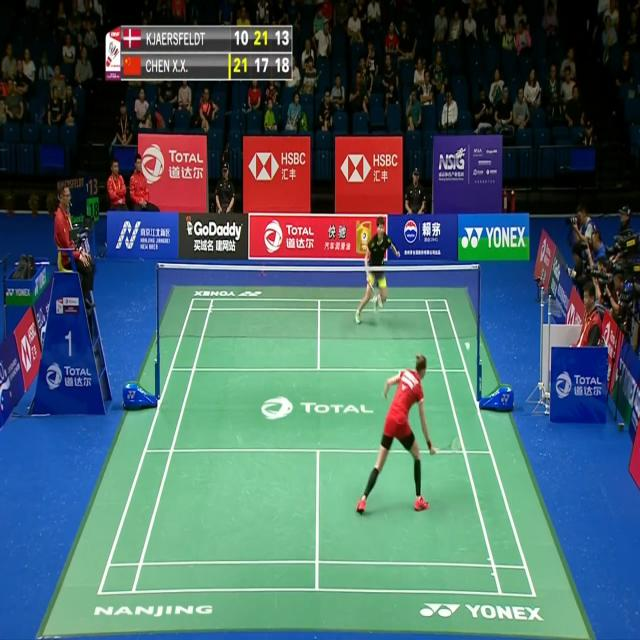Player1: (351, 348, 445, 519)
Player2: (349, 213, 405, 339)
